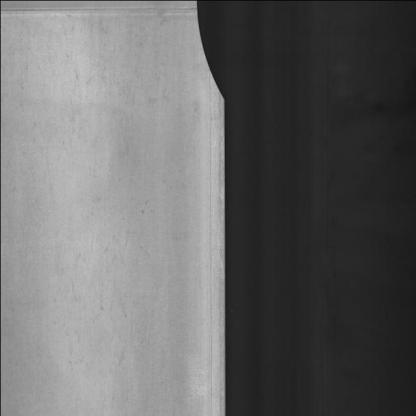crescent_gap: (189, 0, 241, 113)
welding_line: (0, 3, 209, 22)
